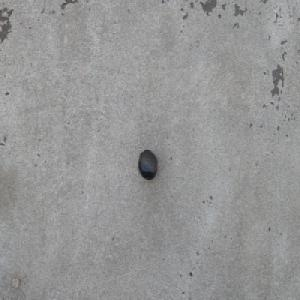FuelCap: (137, 148, 157, 180)
